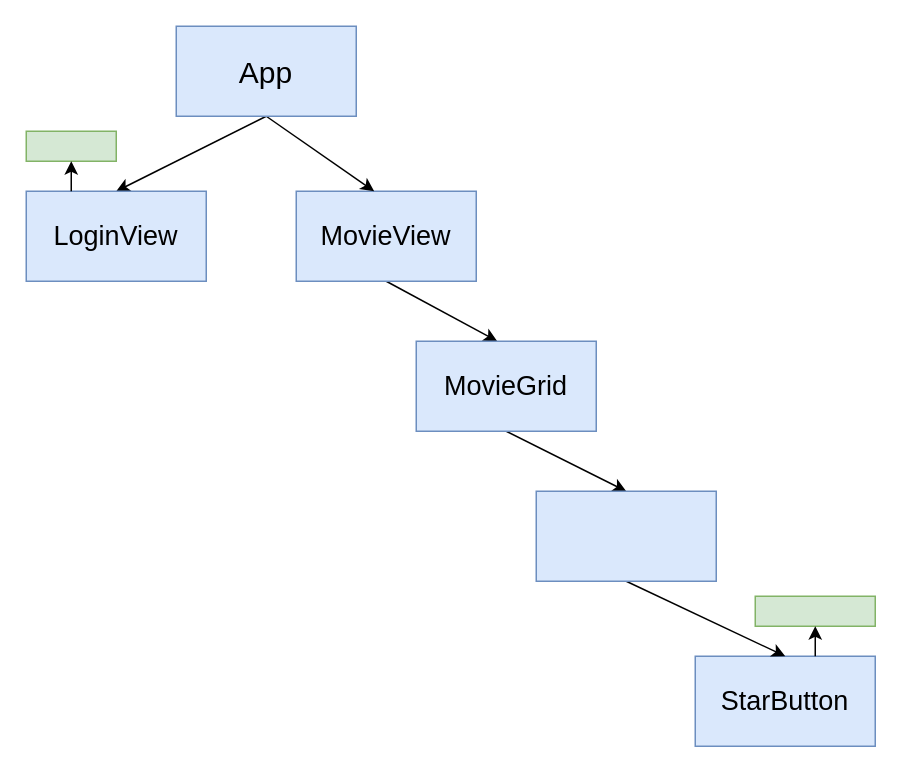
Some shapes in this 902 by 773 pixel diagram are drawn without their labels. The shapes that lost their labels are listed below. From the top down, each one's centre as x and y in pixels, then its label:
At (70,145): "user".
At (625,535): "MovieCard".
At (814,610): "isFavourite ?".
